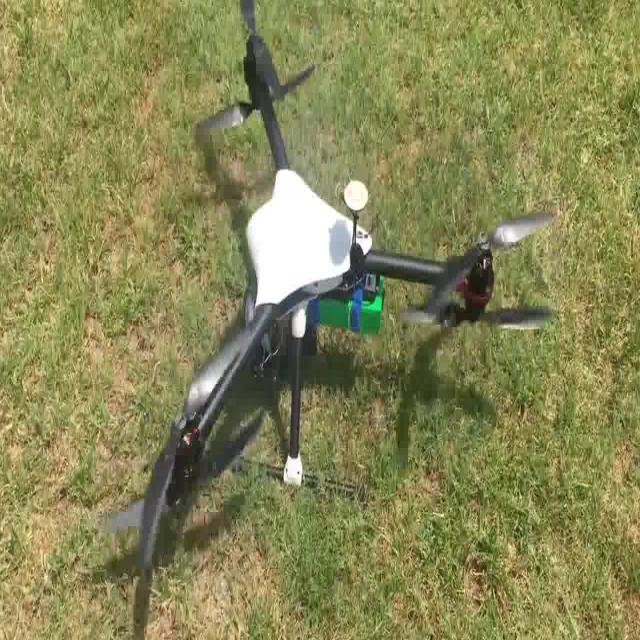Drone_FW: (100, 1, 558, 636)
